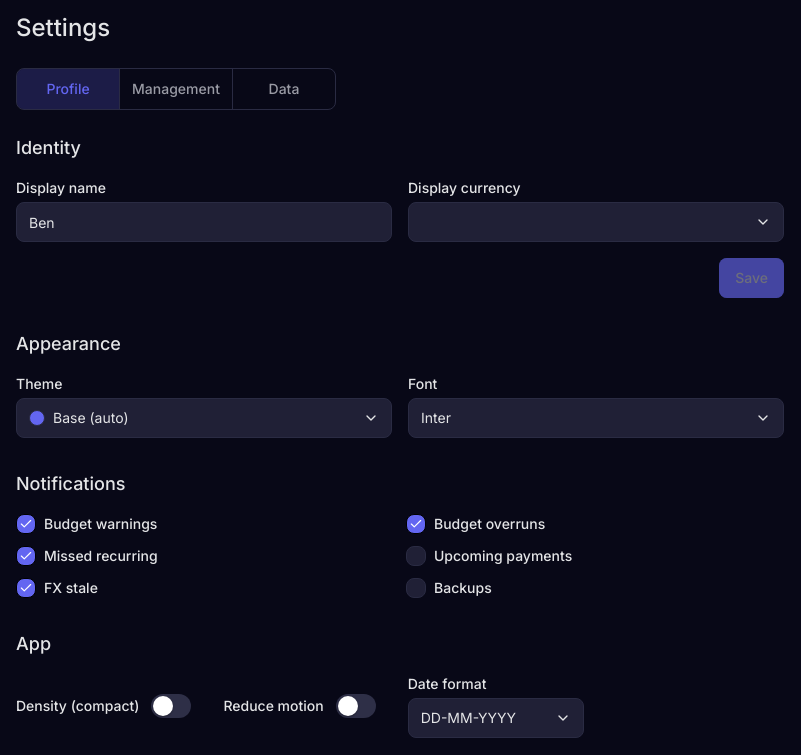
Test: Settings page › Data tab shows a placeholder
Click the button "Data" at (284, 89), box [233,69,335,109]
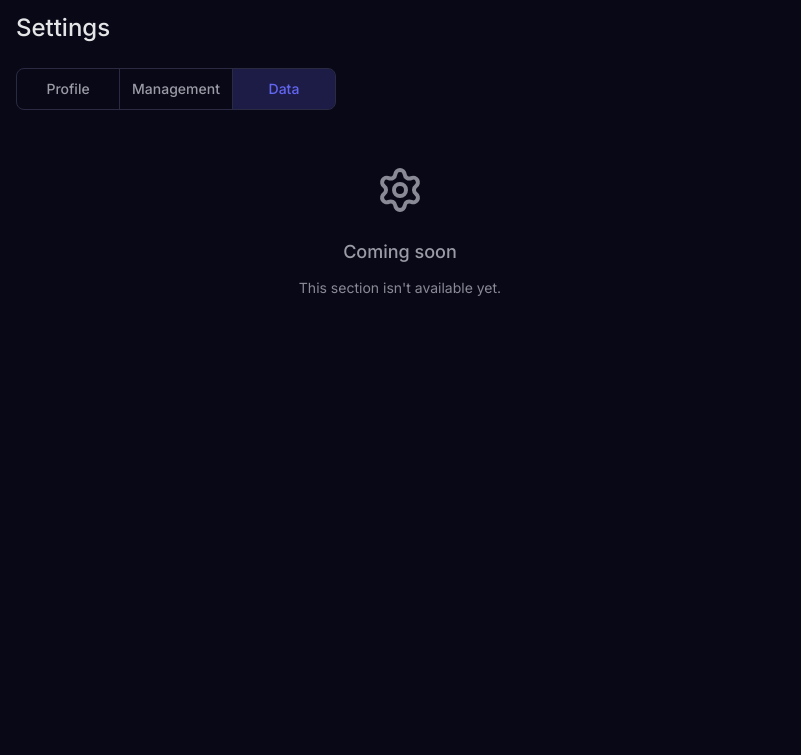
Check: the heading "Coming soon" is shown, box [343,238,457,266]
